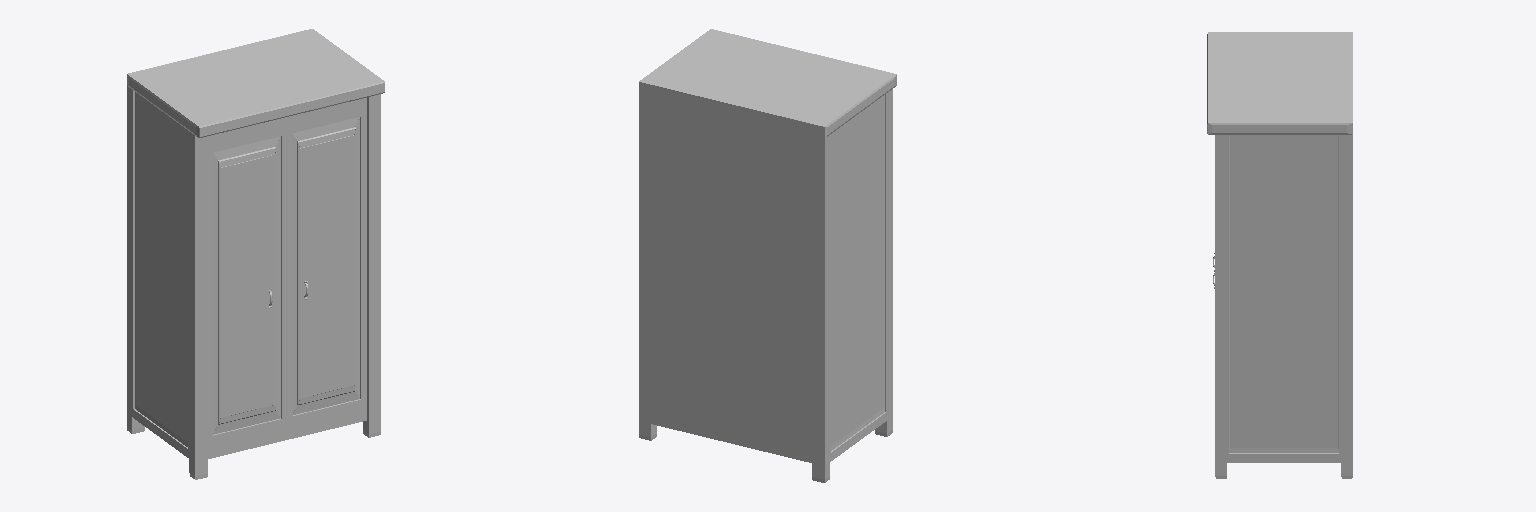
Rendered from Wardrobe.obj.
3 views of the same model, side by side, from view 1: azimuth 30°, elevation 25°; view 2: azimuth 150°, elevation 25°; view 3: azimuth 270°, elevation 25° (orthographic).
Parts seen in each view (by area): view 1: Cube.001_Cube.002; view 2: Cube.001_Cube.002; view 3: Cube.001_Cube.002.
Boxes of the visible parts, x1,y1,x2,y2 form: Cube.001_Cube.002: [127, 29, 384, 479]; Cube.001_Cube.002: [639, 29, 896, 482]; Cube.001_Cube.002: [1207, 32, 1352, 478].
Bounding box in the file's own units: 1.78 × 3.25 × 1.2.